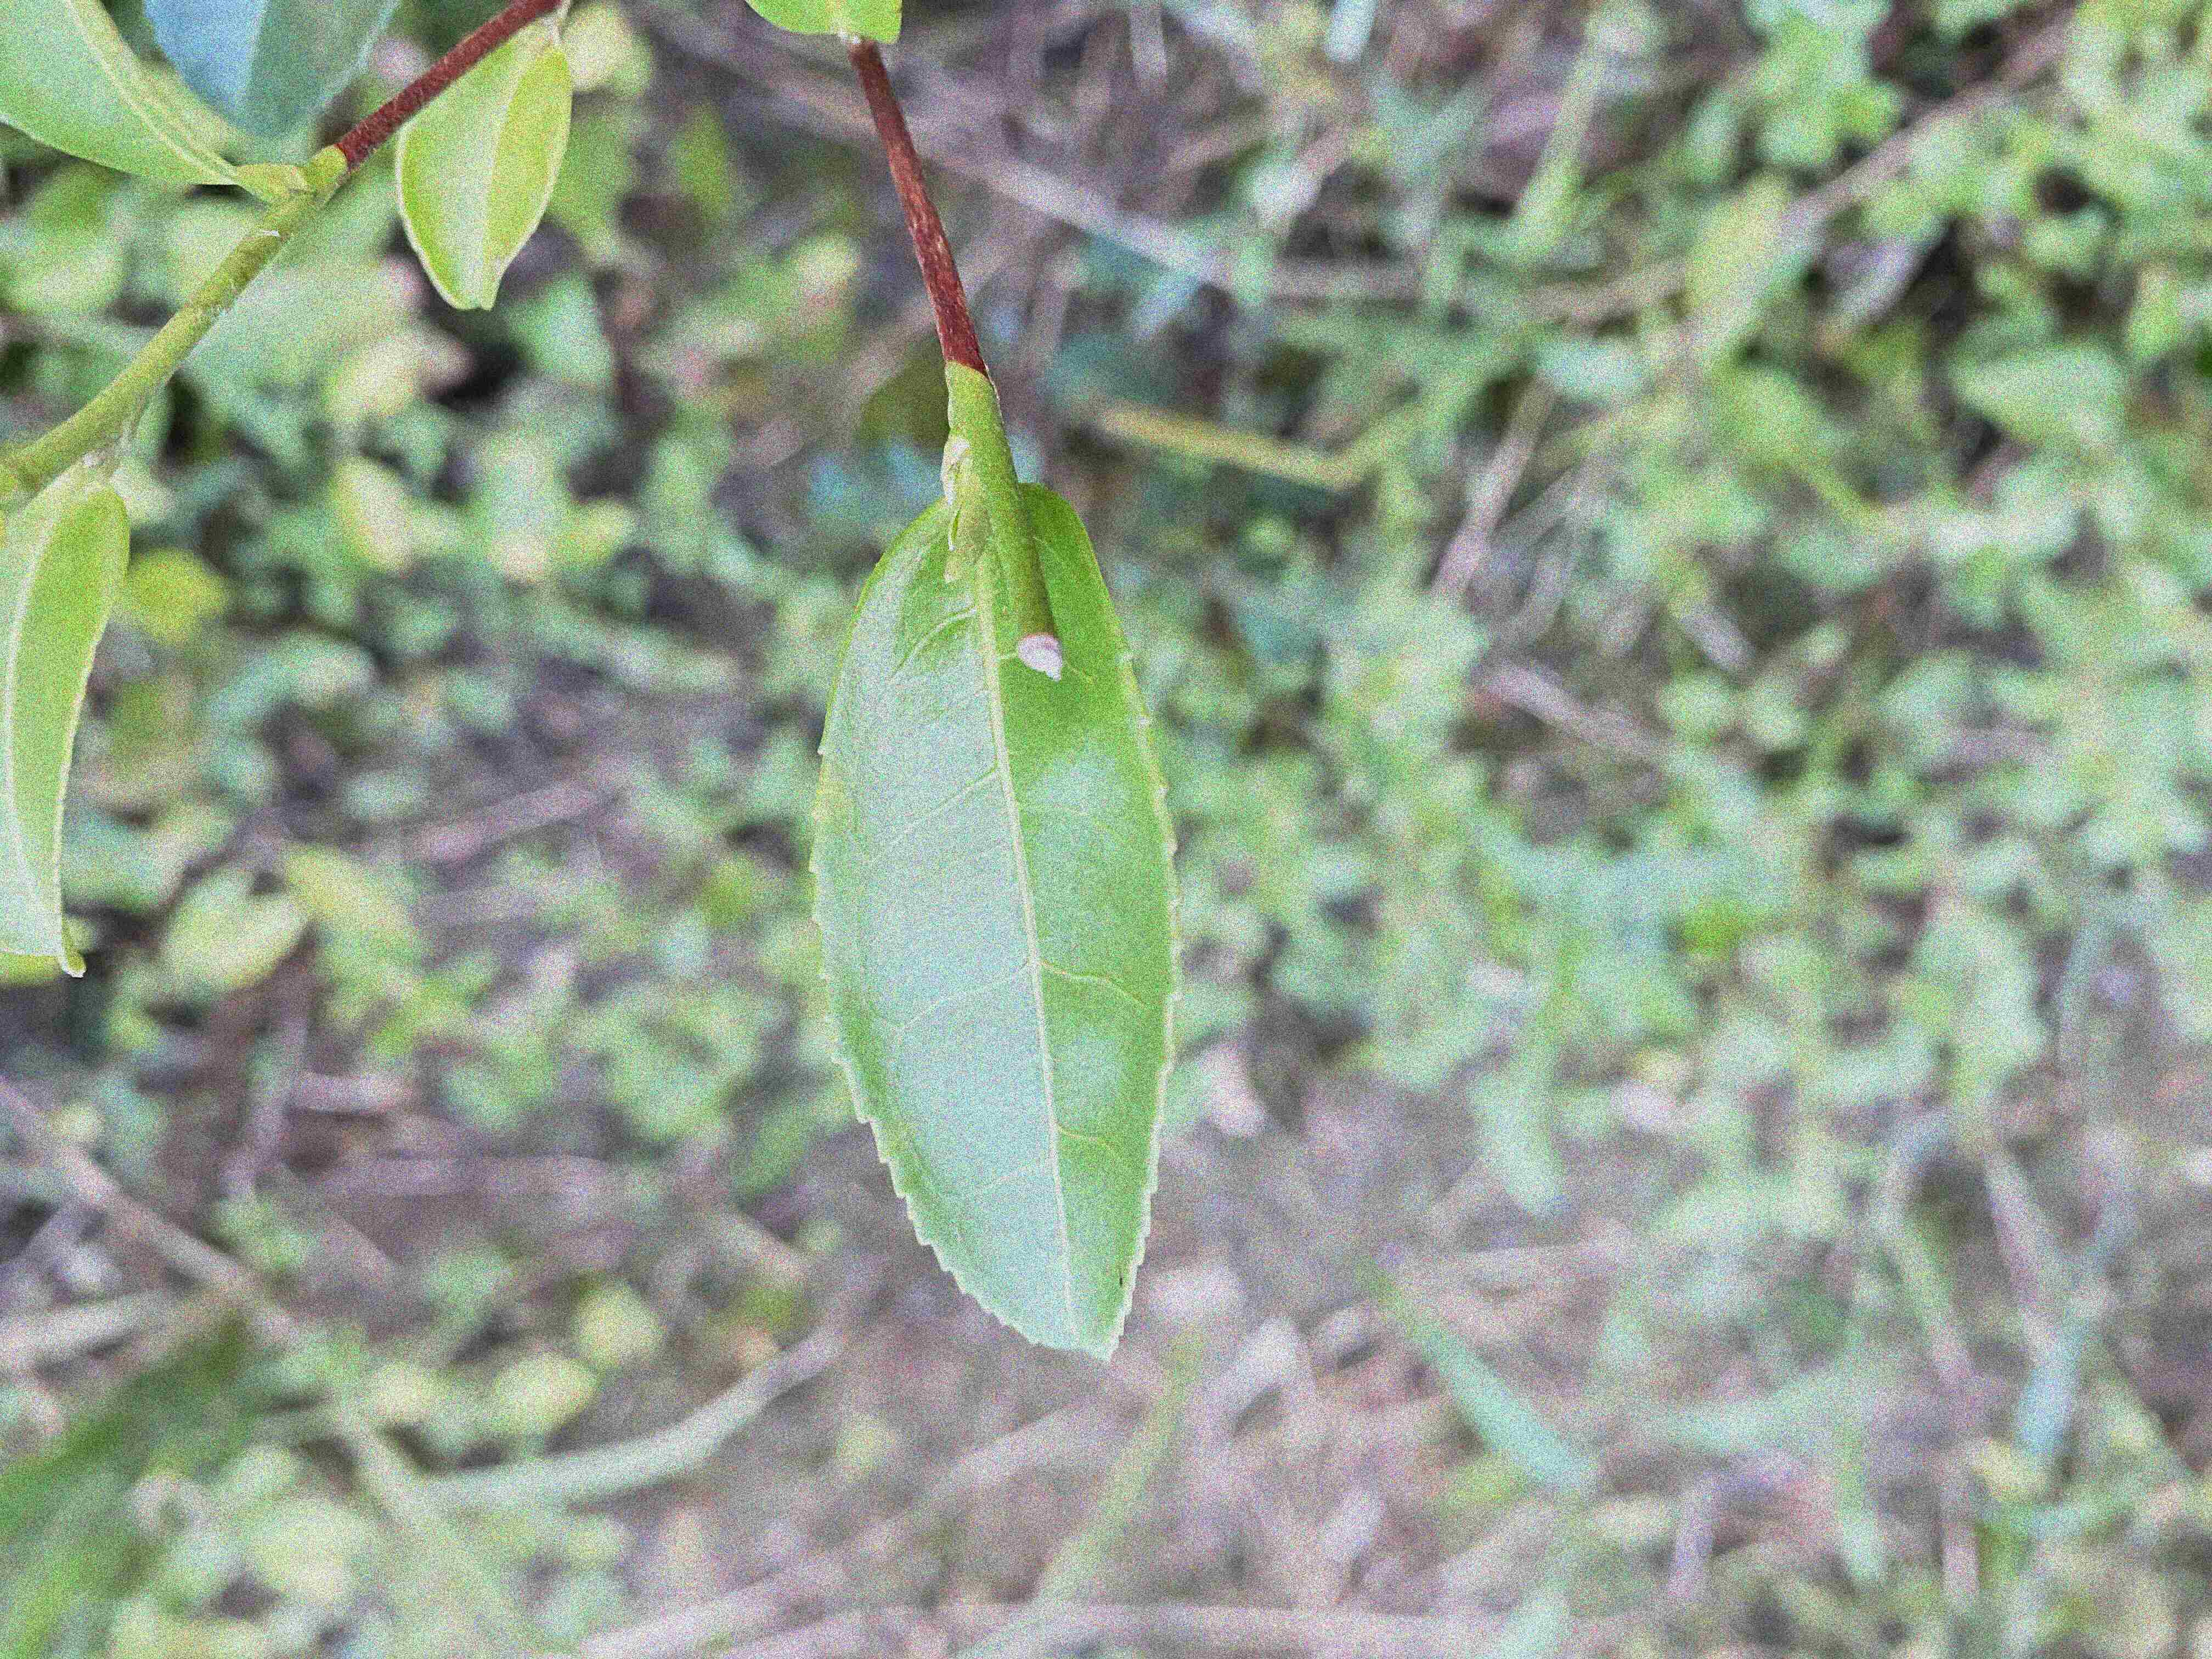healthy: (806, 474, 1181, 1363)
